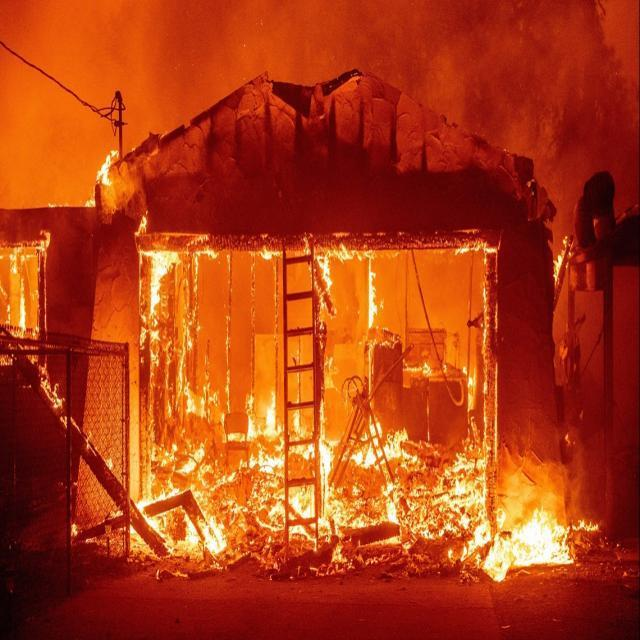Fire: (127, 229, 576, 579)
Smoke: (0, 0, 640, 143)
